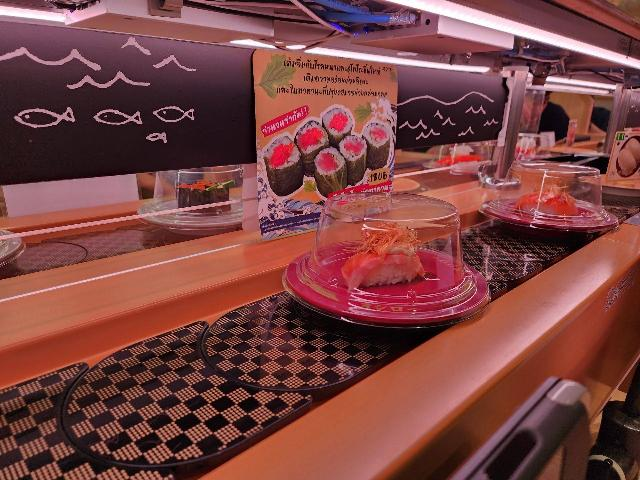janred: (281, 231, 473, 332), (481, 178, 621, 238)
janwhite: (132, 187, 263, 232), (417, 151, 495, 173), (0, 225, 31, 273), (498, 143, 562, 155)
